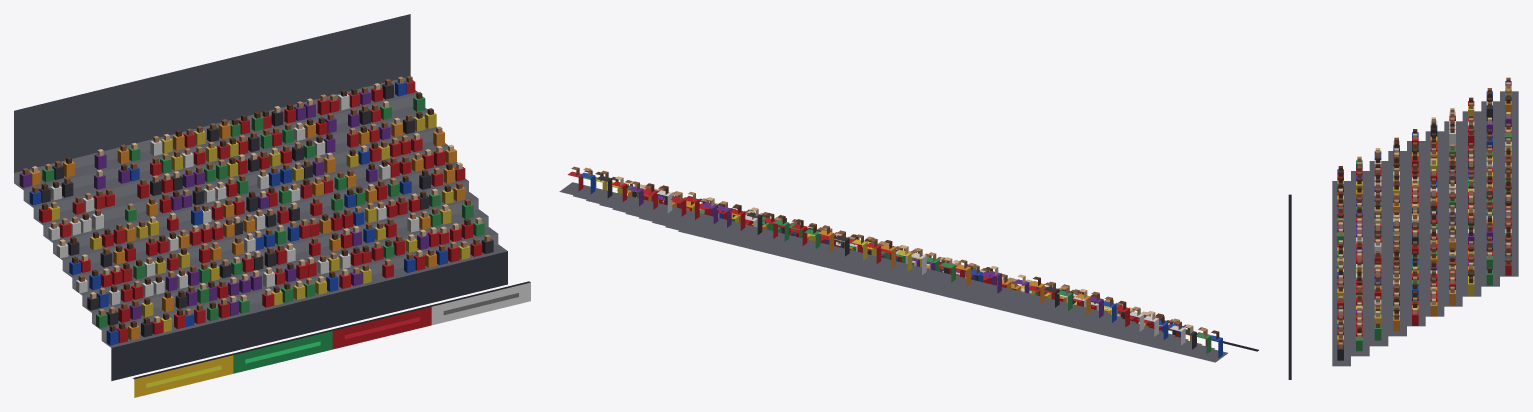
File: stand_end_a_hd.glb
3 views of the same model, side by side, from view 1: azimuth 30°, elevation 25°; view 2: azimuth 150°, elevation 25°; view 3: azimuth 270°, elevation 25° (orthographic). The views are drawn at different scales.
Parts seen in each view (by area): view 1: stand_end_a; view 2: stand_end_a; view 3: stand_end_a.
Boxes of the visible parts, x1=… form: stand_end_a: x1=14, y1=14, x2=530, y2=397; stand_end_a: x1=559, y1=166, x2=1258, y2=362; stand_end_a: x1=1288, y1=77, x2=1518, y2=379.
Size of the model in its own units: 20.01 by 10 by 10.51.
